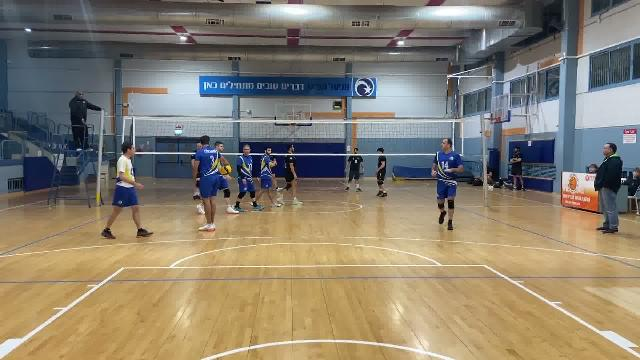ball: (219, 161, 232, 178)
